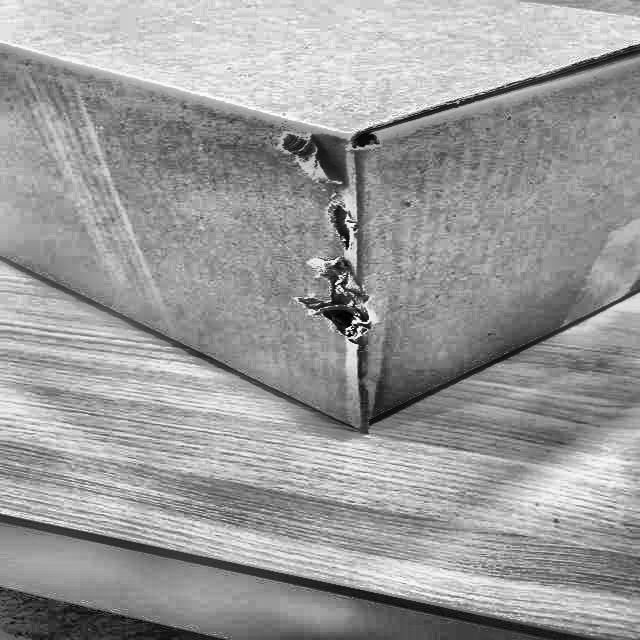box: (0, 0, 639, 442)
hole: (312, 148, 367, 343)
